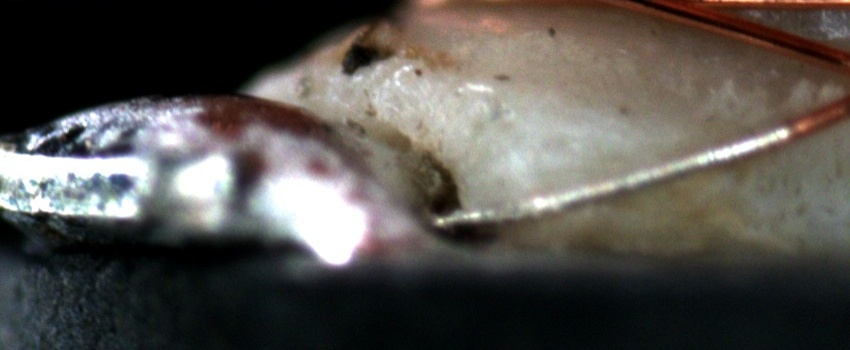TS: (434, 120, 789, 234)
